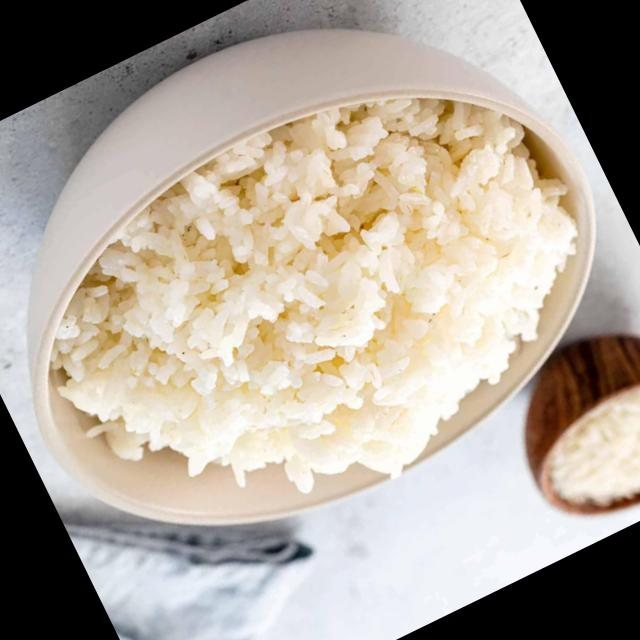rice: (52, 98, 579, 490)
